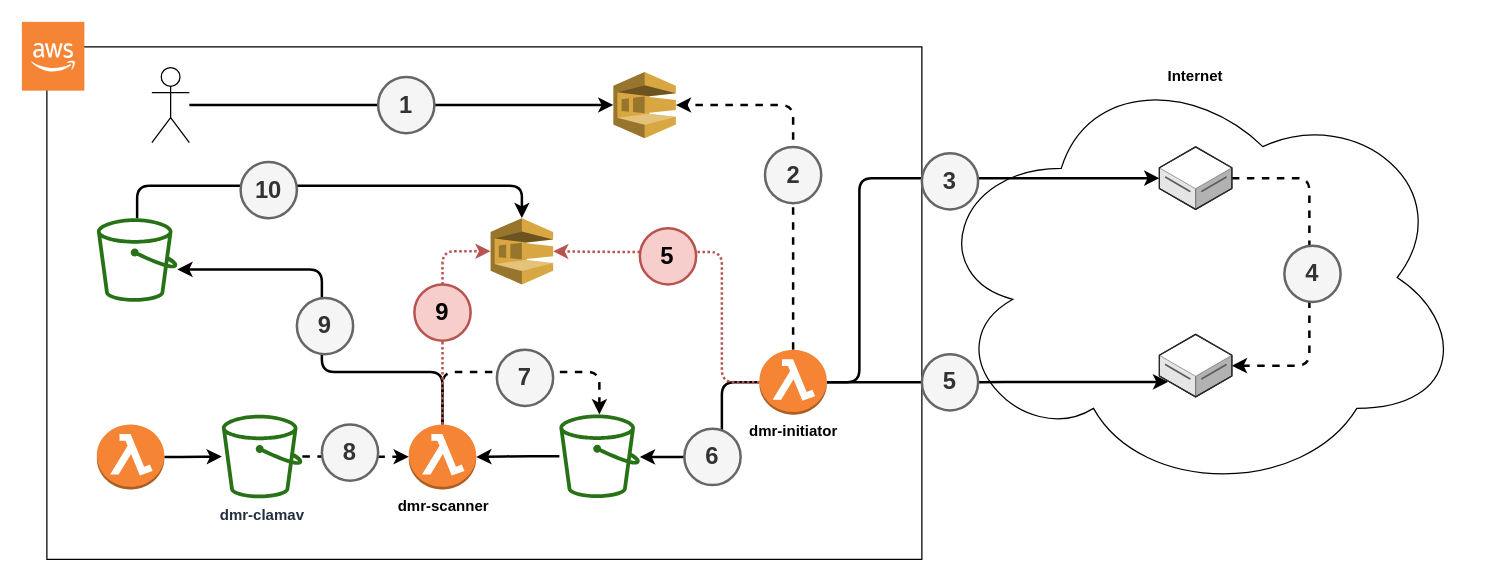
Some shapes in this 1486 by 581 pixel diagram are drawn without their labels. Here are the shapes that lost their labels. From the top down, the centre of each, then its label:
At pixel 644 104: "dmr-queue".
At pixel 1195 177: "VirusTotal.com".
At pixel 136 259: "dmr-delivery".
At pixel 521 250: "dmr-jira".
At pixel 1195 365: "File Provider".
At pixel 130 456: "dmr-clamav-updater".
At pixel 599 456: "dmr-staging".
